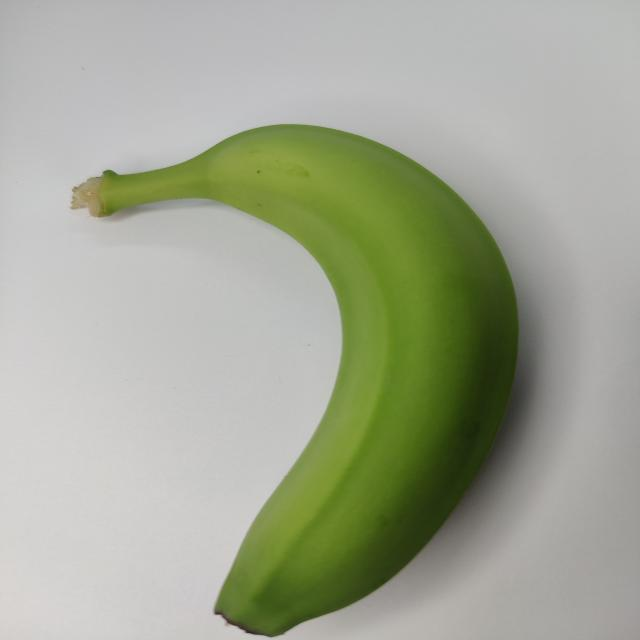raw: (42, 112, 582, 640)
